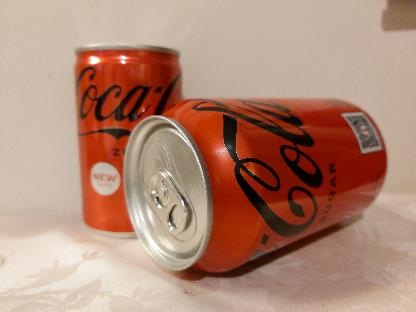Can: (124, 98, 390, 276)
